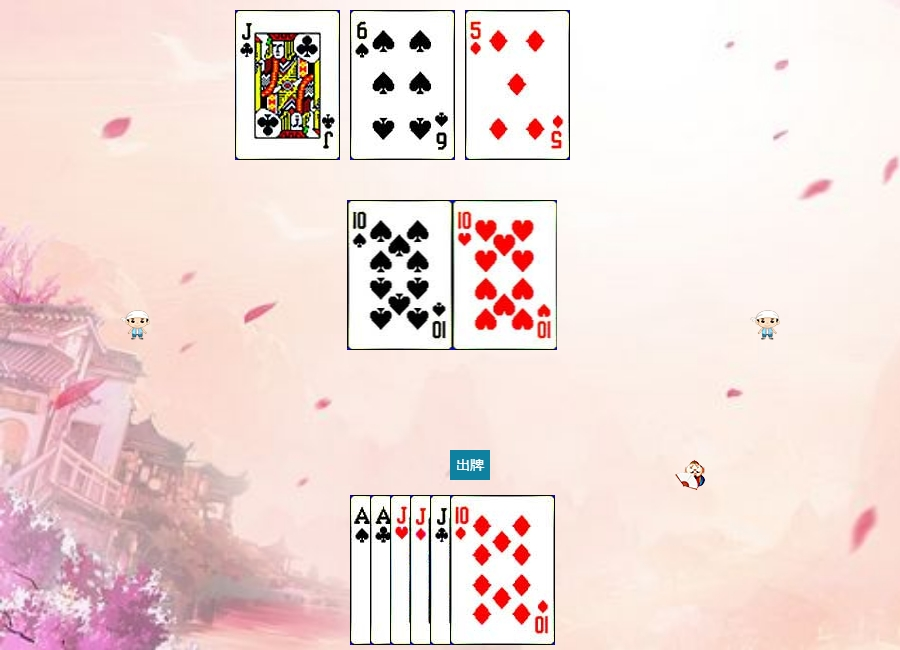10~1: (450, 495, 555, 645)
10~3: (453, 200, 558, 350)
10~4: (348, 200, 453, 350)
11~1: (410, 495, 515, 645)
11~2: (235, 10, 340, 160), (430, 495, 535, 645)
11~3: (390, 495, 495, 645)
14~2: (370, 495, 475, 645)
14~4: (350, 495, 455, 645)
5~1: (465, 10, 570, 160)
6~4: (350, 10, 455, 160)
